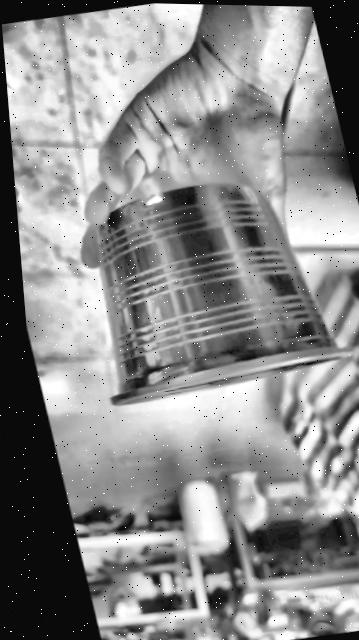pot: (97, 184, 346, 405), (98, 184, 346, 405)
